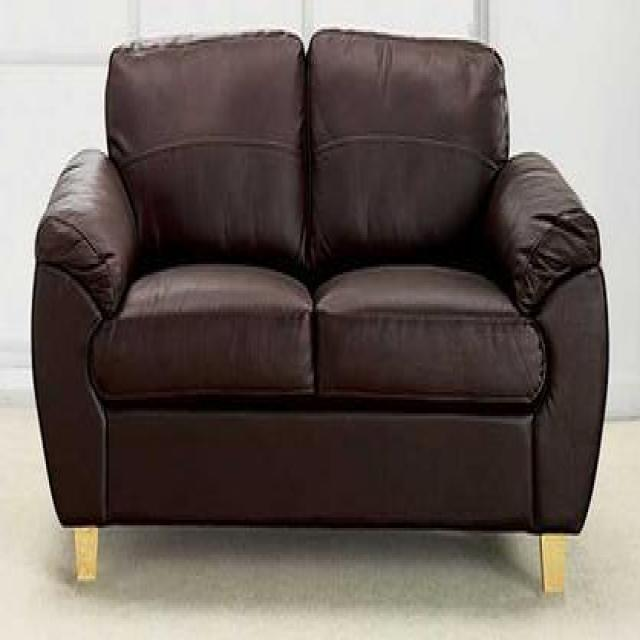sofa: (29, 29, 610, 597)
